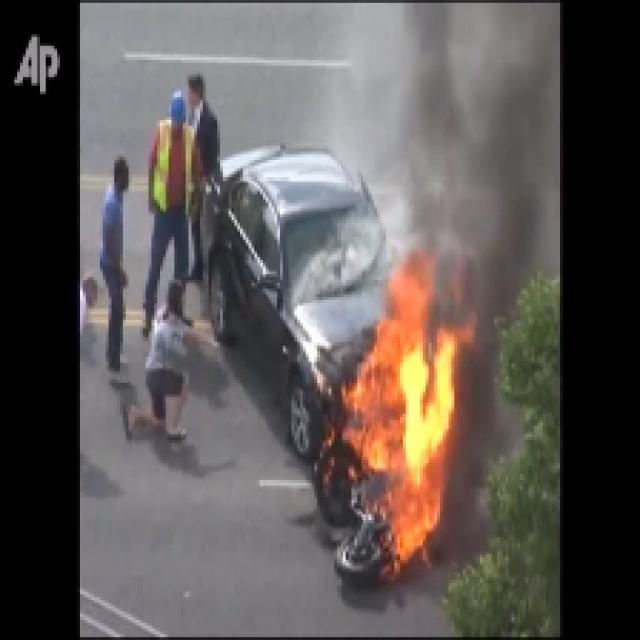Fire: (352, 322, 448, 561)
Smoke: (415, 23, 546, 279)
